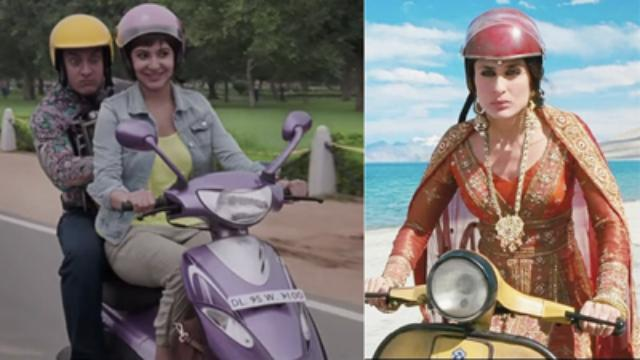With Helmet: (454, 6, 552, 120), (110, 3, 190, 91), (46, 10, 114, 96)
